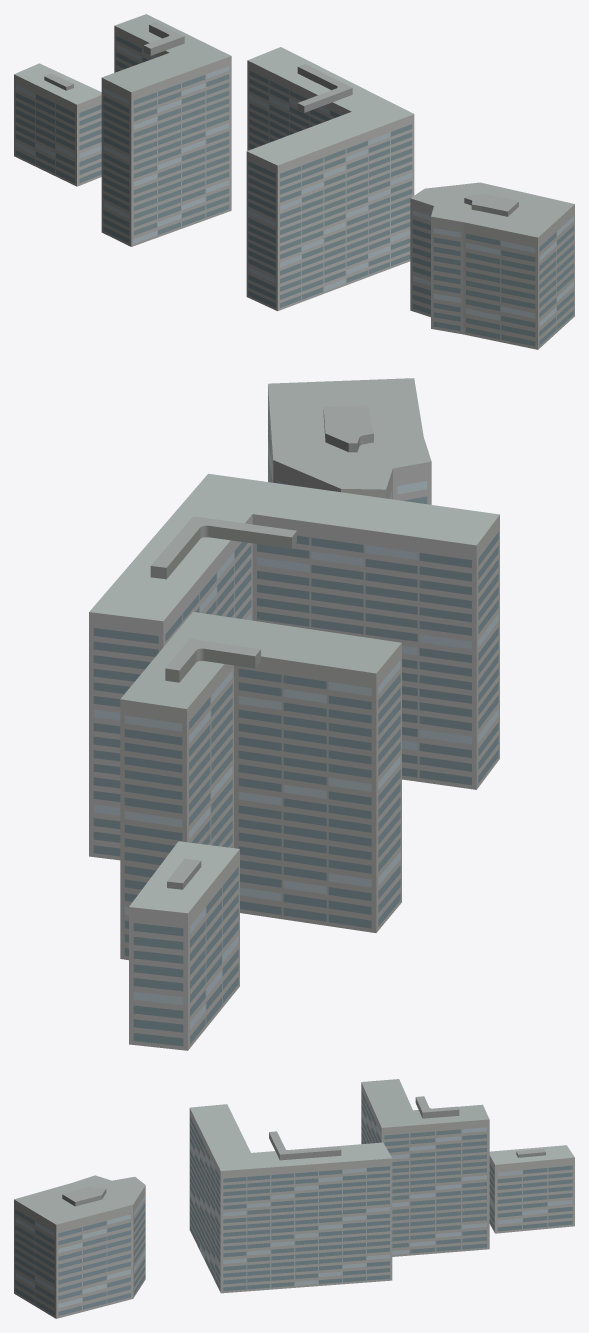
Rendered from apt-a13920001.glb.
3 views of the same model, one above another, from view 1: azimuth 30°, elevation 25°; view 2: azimuth 150°, elevation 25°; view 3: azimuth 270°, elevation 25° (orthographic). The views are drawn at different scales.
Visible parts, largest first — view 1: apt-a13920001; view 2: apt-a13920001; view 3: apt-a13920001.
Part boxes in pixels (x1,y1,x2,y2): apt-a13920001: [14, 14, 574, 349]; apt-a13920001: [89, 378, 499, 1050]; apt-a13920001: [14, 1079, 574, 1318].
Bounding box in the file's own units: 88.57 × 51 × 191.
